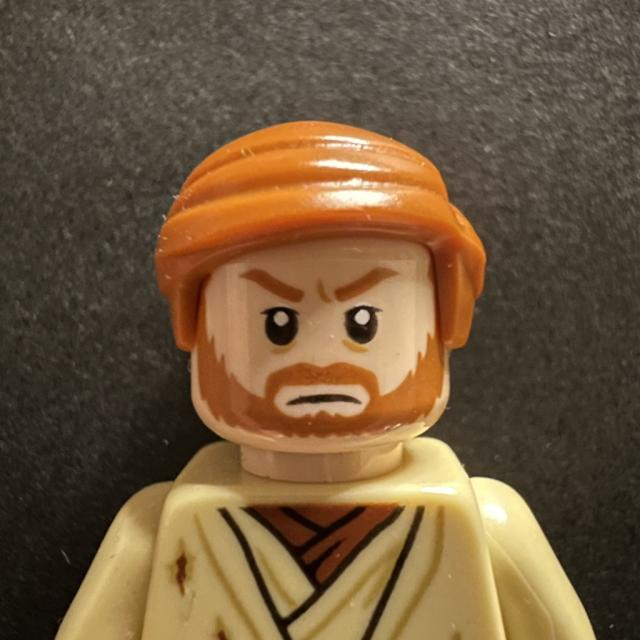alien: (145, 104, 491, 479)
